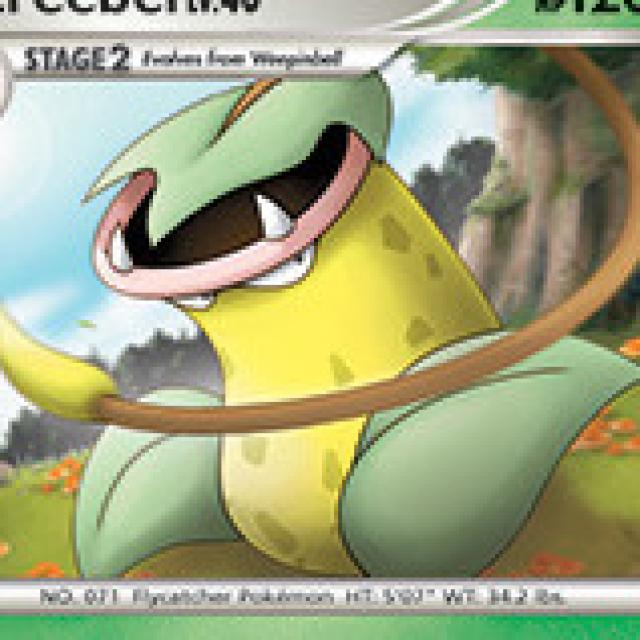Victreebel: (70, 65, 576, 566)
